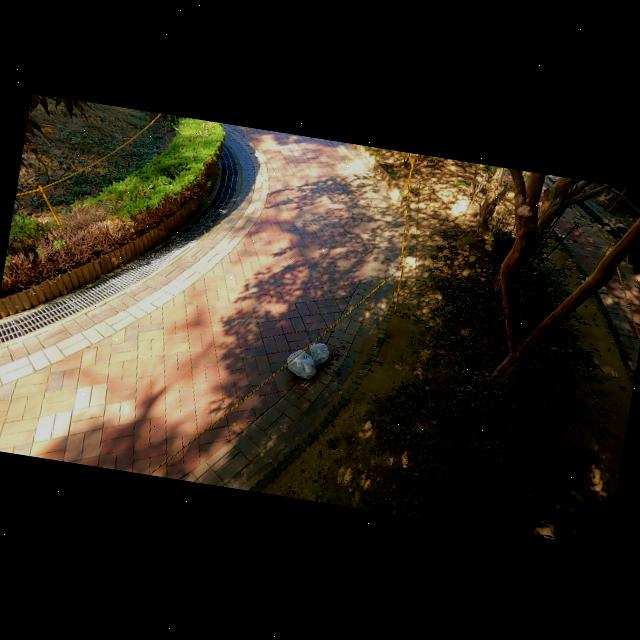trash: (282, 343, 322, 384), (304, 338, 334, 370)
